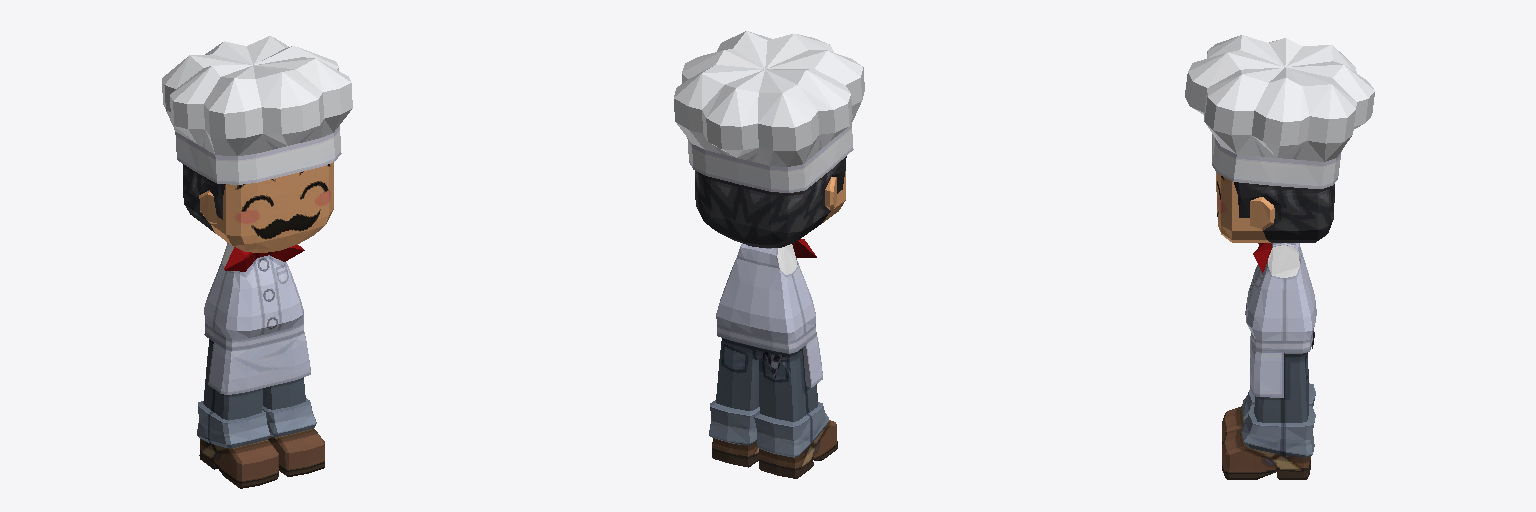
3 renders of one model, left to right at view 1: azimuth 30°, elevation 25°; view 2: azimuth 150°, elevation 25°; view 3: azimuth 270°, elevation 25°, orthographic.
Visible parts, largest first — view 1: Mesh_0024, Mesh_0027.003, Mesh_0023; view 2: Mesh_0024, Mesh_0027.003, Mesh_0023; view 3: Mesh_0024, Mesh_0027.003, Mesh_0023, Mesh_0027.006.
Part boxes in pixels (x1,y1,x2,y2): Mesh_0024: (162, 36, 352, 232); Mesh_0027.003: (197, 245, 324, 488); Mesh_0023: (199, 162, 333, 252); Mesh_0024: (674, 31, 864, 247); Mesh_0027.003: (709, 239, 837, 478); Mesh_0023: (823, 171, 845, 222); Mesh_0024: (1185, 35, 1374, 242); Mesh_0027.003: (1222, 243, 1316, 479); Mesh_0023: (1216, 172, 1274, 242); Mesh_0027.006: (1268, 245, 1299, 277).
Size of the model in its own units: 0.8156 by 1.94 by 0.8246.
4 materials, 4 textured.